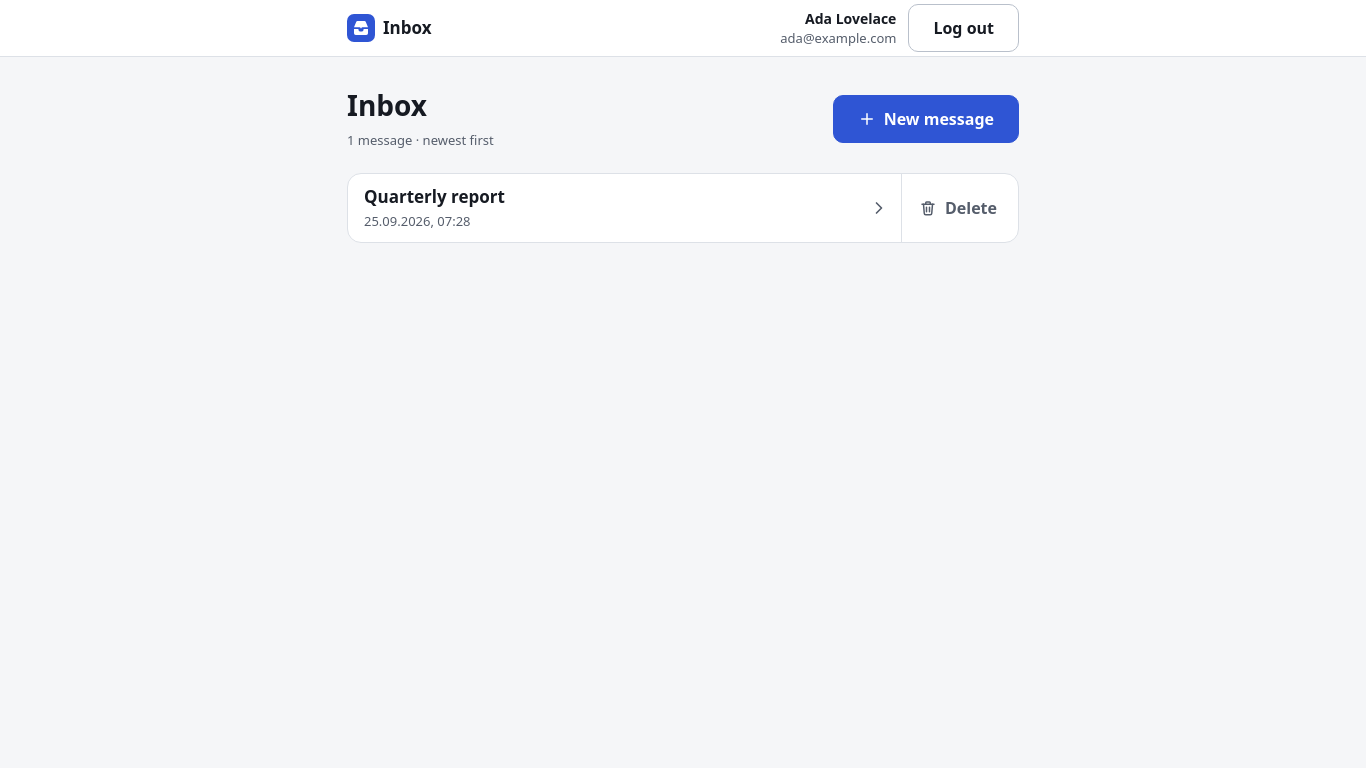
Test: Deleting from the inbox › asks for confirmation, focusing the safe choice, and cancels without deleting
Click the button with aria-label "Delete message: Quarterly report" at (958, 208), box [906,184,1010,232]
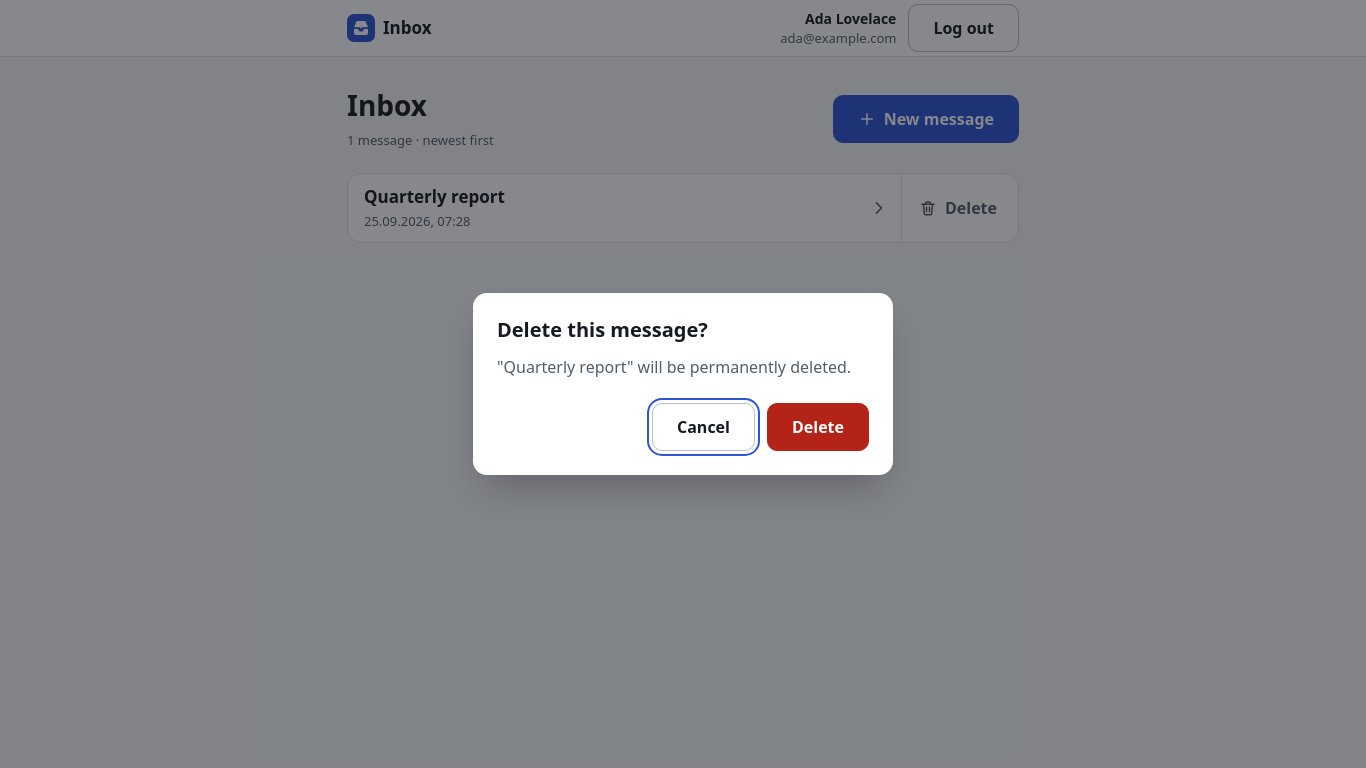
Click the button "Cancel" at (703, 427), box [652,403,755,451]
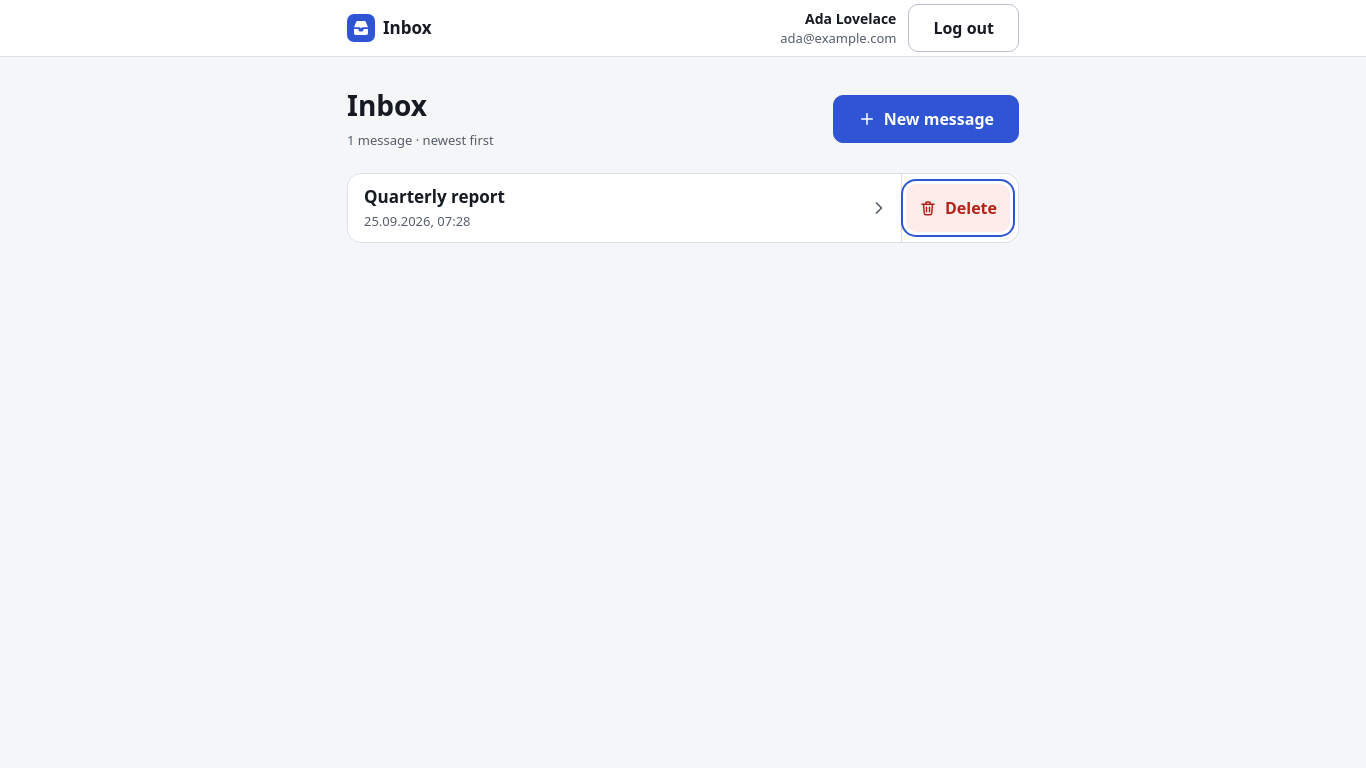
Result: the dialog is gone
